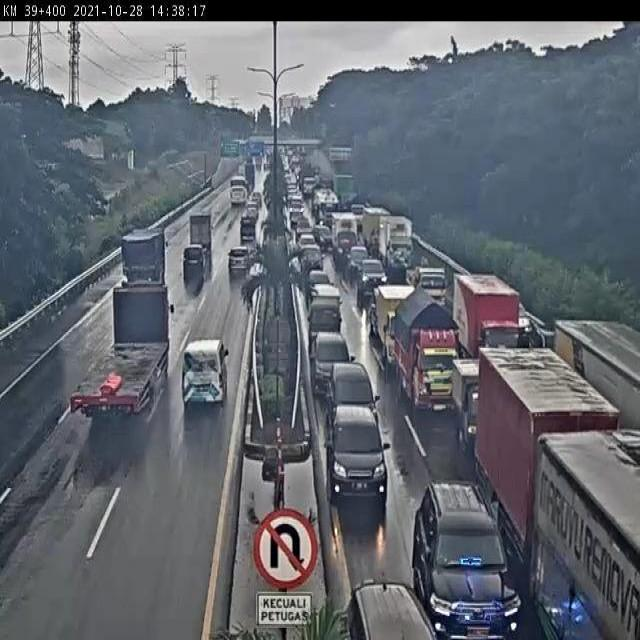big truck: (477, 354, 625, 570), (529, 420, 640, 640), (64, 276, 176, 424), (553, 318, 640, 422), (447, 267, 528, 361), (111, 226, 174, 298)
car: (402, 466, 529, 640), (316, 407, 397, 505), (339, 569, 441, 640), (171, 336, 239, 412), (301, 332, 353, 400), (330, 364, 384, 425), (225, 244, 253, 283), (181, 242, 207, 278)
small truck: (391, 287, 464, 413), (453, 352, 483, 453), (185, 210, 220, 253), (237, 211, 262, 241)
